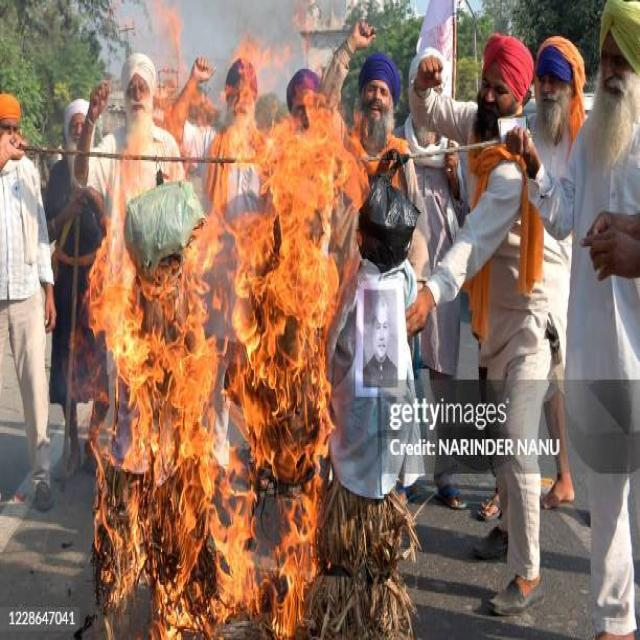fire: (71, 240, 363, 640), (103, 0, 371, 240)
